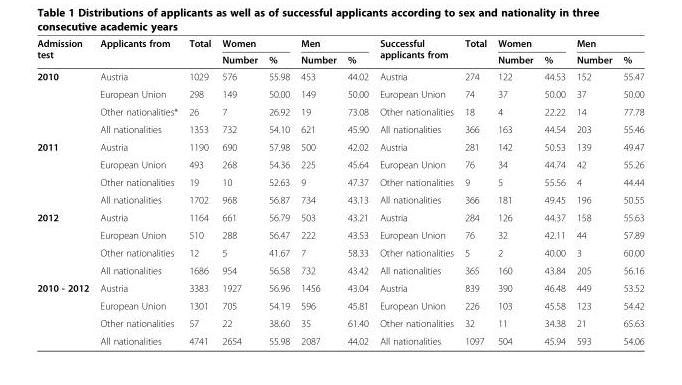table: (36, 37, 643, 346)
table column: (93, 37, 182, 346), (373, 37, 458, 346), (36, 37, 93, 346), (215, 37, 262, 346), (294, 37, 341, 346), (491, 37, 538, 346), (570, 37, 617, 346), (182, 37, 215, 346), (458, 37, 491, 346), (262, 37, 294, 346), (341, 37, 373, 346), (538, 37, 570, 346), (617, 37, 643, 346)
table column header: (36, 37, 643, 67)
table row: (36, 84, 643, 102), (36, 102, 643, 120), (36, 137, 643, 155), (36, 155, 643, 173), (36, 190, 643, 208), (36, 225, 643, 243), (36, 243, 643, 261), (36, 278, 643, 296), (36, 296, 643, 314), (36, 67, 643, 84), (36, 120, 643, 137), (36, 173, 643, 190), (36, 208, 643, 225), (36, 261, 643, 278), (36, 314, 643, 331), (36, 51, 643, 67), (36, 331, 643, 346), (36, 37, 643, 51)
table spanning cell: (36, 137, 93, 208), (36, 67, 93, 137), (36, 208, 93, 278), (36, 278, 93, 346), (93, 37, 182, 67), (373, 37, 458, 67), (36, 37, 93, 67), (215, 37, 294, 51), (294, 37, 373, 51), (491, 37, 570, 51), (570, 37, 643, 51), (182, 37, 215, 67), (458, 37, 491, 67)
